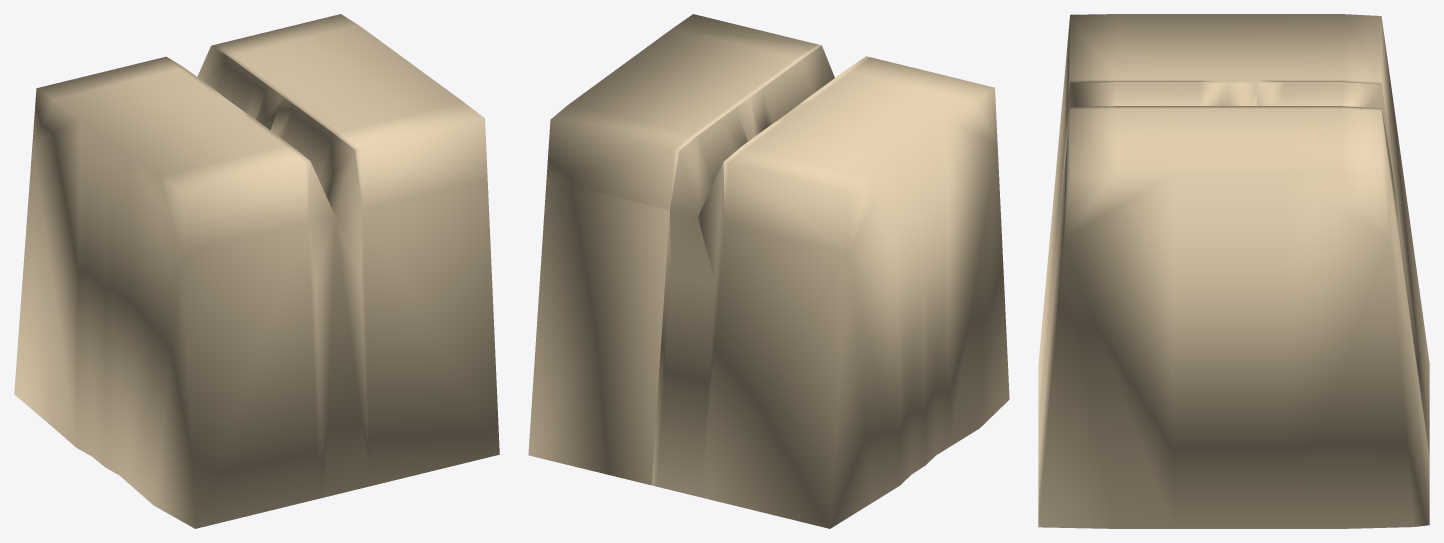
File: Tronky 2 pieces.fbx
The picture shows the model from 3 angles, left to right: view 1: azimuth 30°, elevation 25°; view 2: azimuth 150°, elevation 25°; view 3: azimuth 270°, elevation 25°; orthographic projection. The views are drawn at different scales.
Visible parts, largest first — view 1: Cube; view 2: Cube; view 3: Cube.
Part boxes in pixels (bbox=[...]): Cube: bbox=[14, 14, 499, 528]; Cube: bbox=[528, 14, 1009, 528]; Cube: bbox=[1038, 14, 1429, 528].
Bounding box in the file's own units: 0.9889 × 1 × 1.
